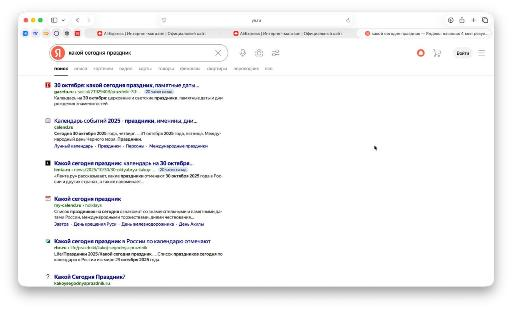yandex: (21, 40, 490, 292)
